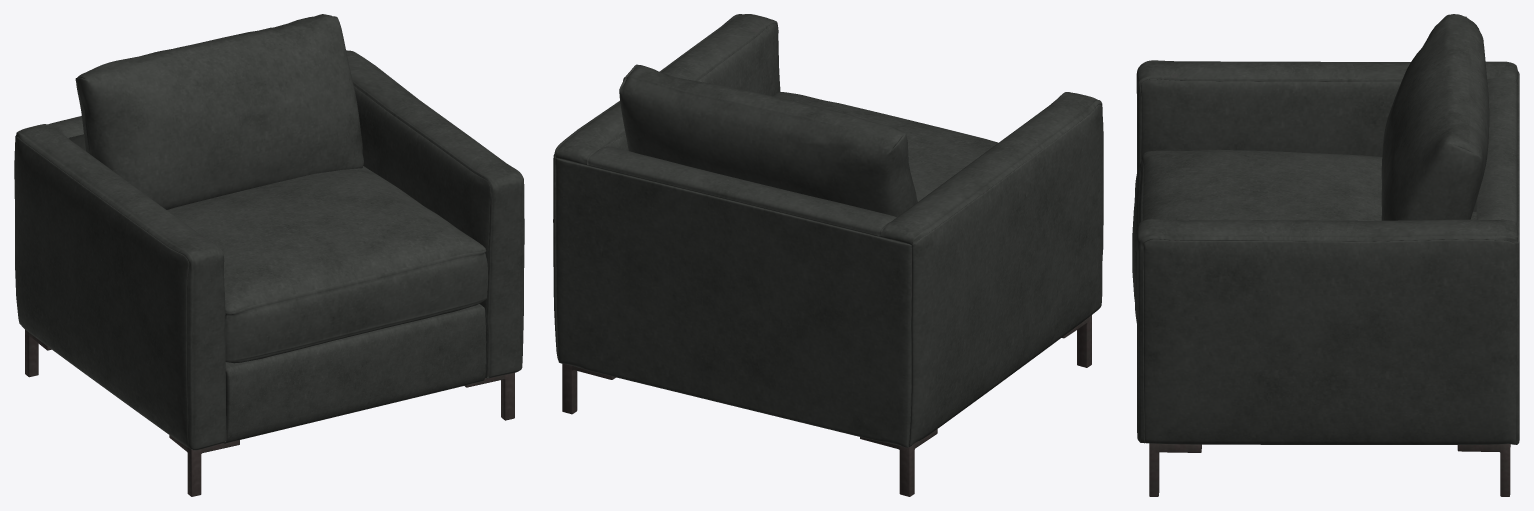
Rendered from office_chair_B07B4MRV2H.glb.
3 renders of one model, left to right at view 1: azimuth 30°, elevation 25°; view 2: azimuth 150°, elevation 25°; view 3: azimuth 270°, elevation 25°, orthographic. The views are drawn at different scales.
Parts seen in each view (by area): view 1: RootNode; view 2: RootNode; view 3: RootNode.
Part boxes in pixels (x1,y1,x2,y2): RootNode: (14,14,524,496); RootNode: (553,14,1103,496); RootNode: (1132,14,1519,496).
Bounding box in the file's own units: 0.9675 × 0.8235 × 0.8611.
Materials: 1 (1 with a texture image).
